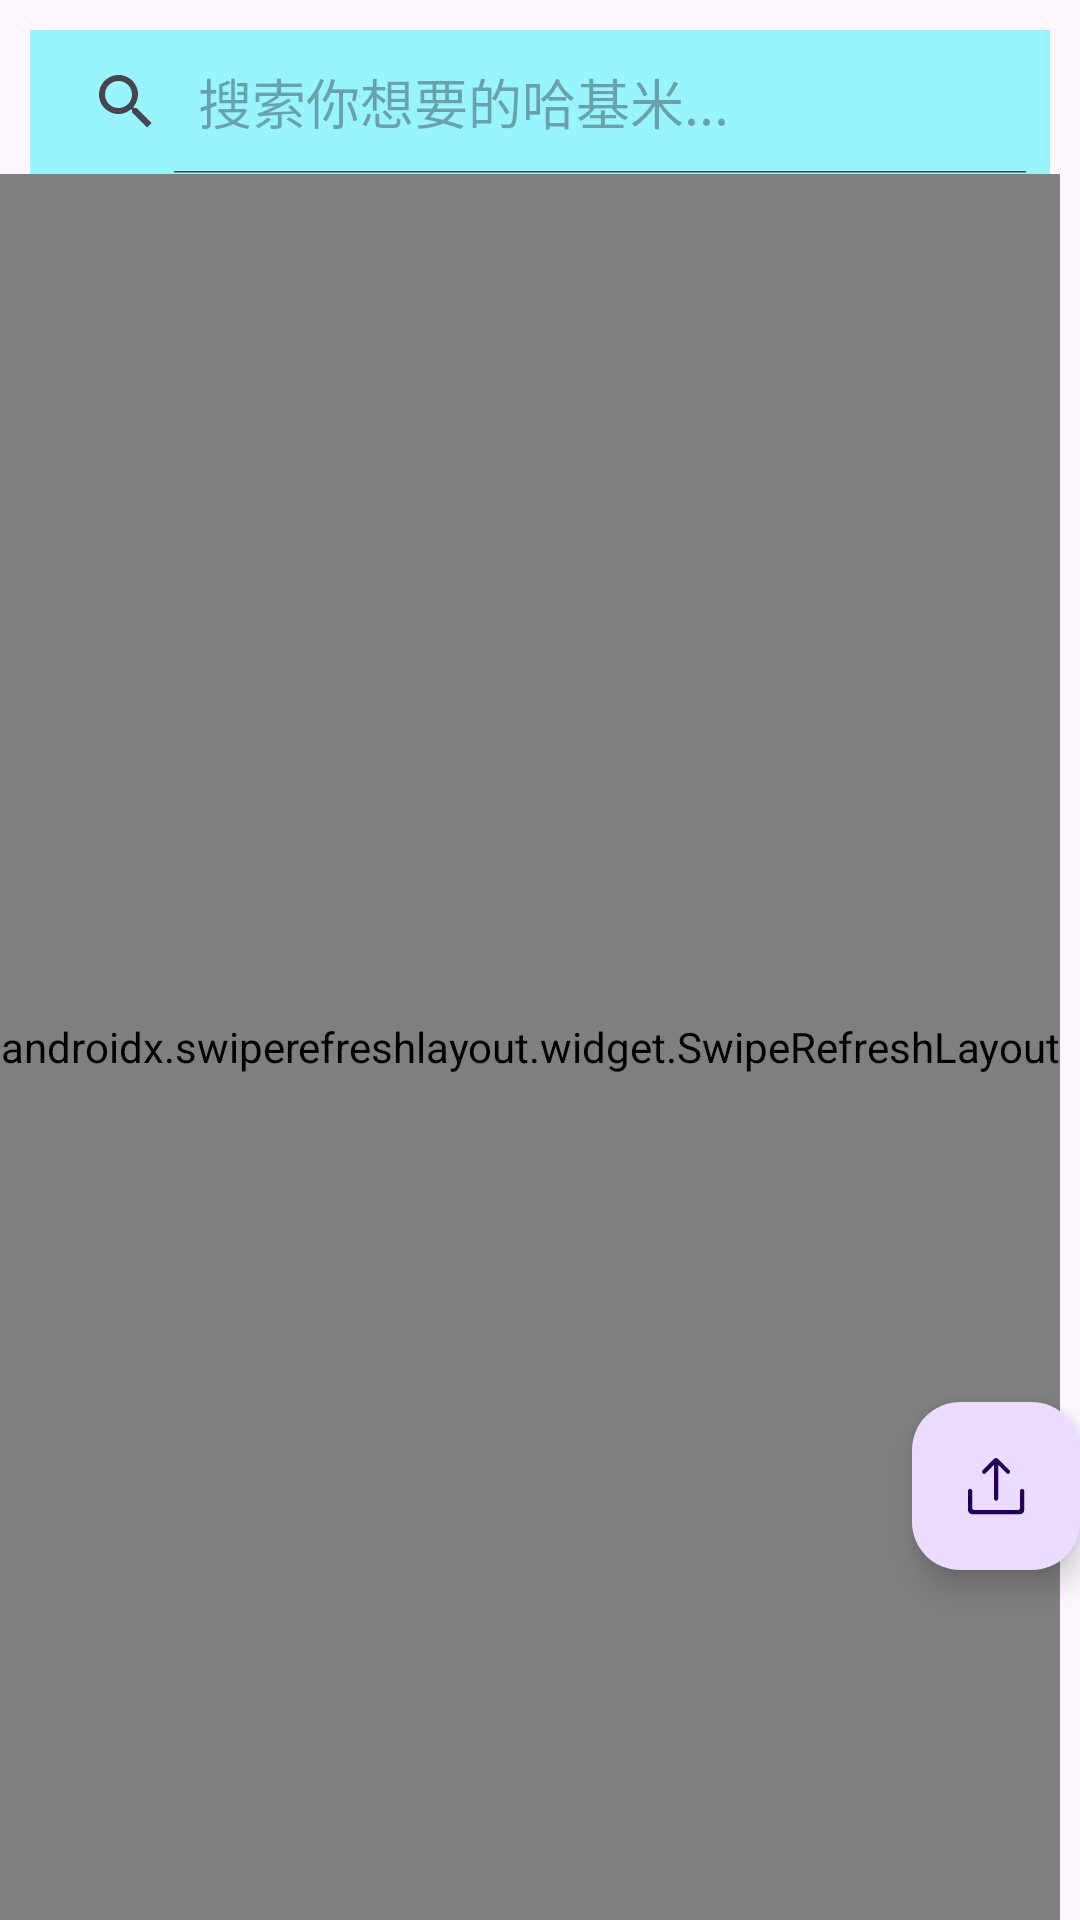

Where to tap for icons on this 1080x1920 app screen, as [x,y]:
upload: [996,1486]
